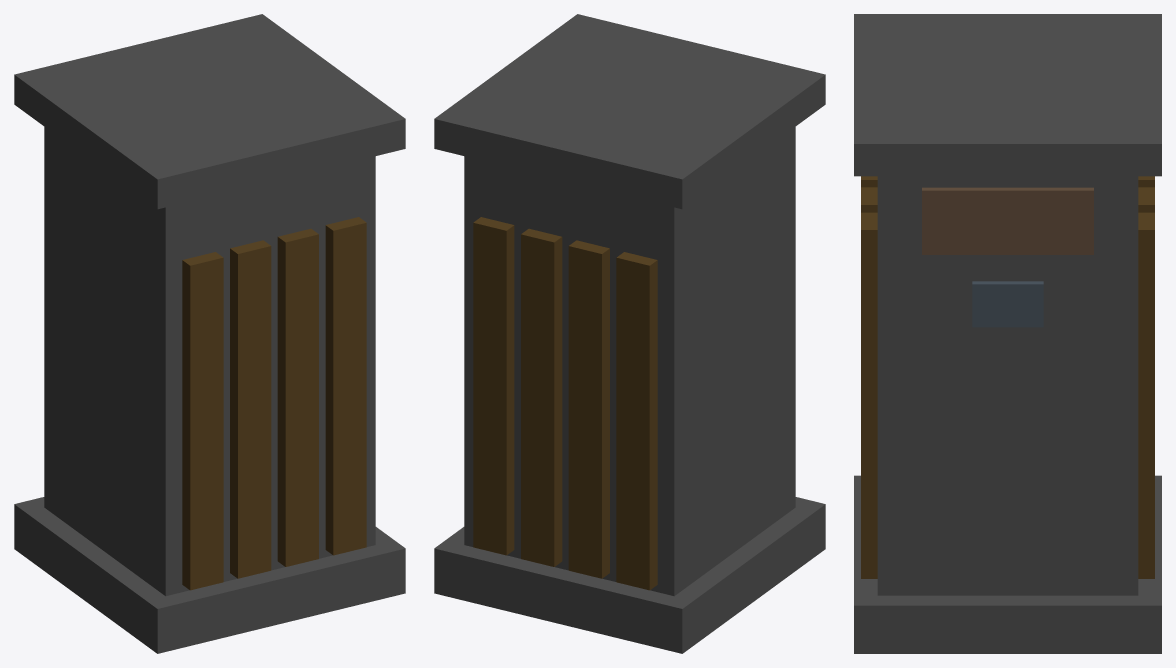
File: bin.fbx
The picture shows the model from 3 angles, left to right: view 1: azimuth 30°, elevation 25°; view 2: azimuth 150°, elevation 25°; view 3: azimuth 270°, elevation 25°; orthographic projection. The views are drawn at different scales.
Visible parts, largest first — view 1: bin; view 2: bin; view 3: bin.
Boxes of the visible parts, bbox=[...] form: bin: bbox=[14, 14, 405, 653]; bin: bbox=[434, 14, 825, 653]; bin: bbox=[854, 14, 1161, 653].
Bounding box in the file's own units: 0.52 × 0.95 × 0.52.
